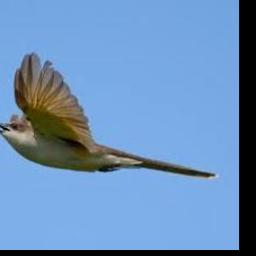Cuckoo: (0, 52, 218, 179)
